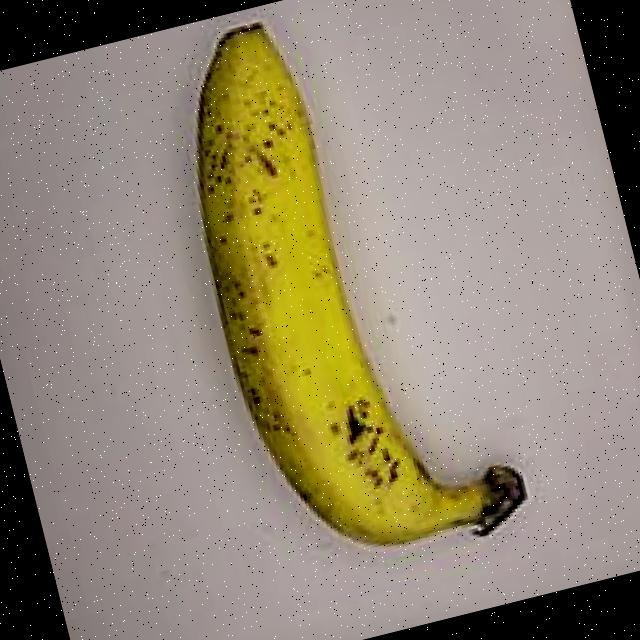Overripe: (118, 0, 563, 601)
